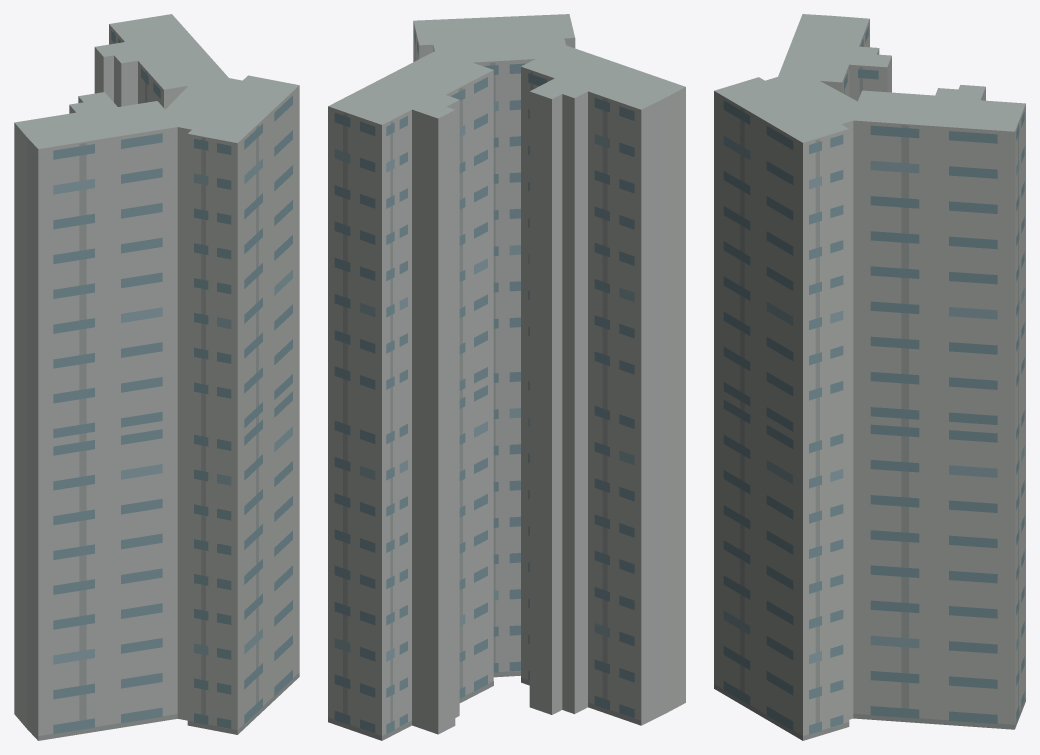
The model's file is residential-8324eec9-8f51-407f-af35-ef29c25a1689.glb.
3 renders of one model, left to right at view 1: azimuth 30°, elevation 25°; view 2: azimuth 150°, elevation 25°; view 3: azimuth 270°, elevation 25°, orthographic. The views are drawn at different scales.
Visible parts, largest first — view 1: residential-8324eec9-8f51-407f-af35-ef29c25a1689.tmp; view 2: residential-8324eec9-8f51-407f-af35-ef29c25a1689.tmp; view 3: residential-8324eec9-8f51-407f-af35-ef29c25a1689.tmp.
Part boxes in pixels (left/top/right/bottom): residential-8324eec9-8f51-407f-af35-ef29c25a1689.tmp: left=14, top=14, right=299, bottom=740; residential-8324eec9-8f51-407f-af35-ef29c25a1689.tmp: left=328, top=14, right=685, bottom=740; residential-8324eec9-8f51-407f-af35-ef29c25a1689.tmp: left=714, top=14, right=1025, bottom=740.
Size of the model in its own units: 46.71 by 101 by 47.74.
